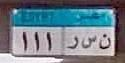1: (46, 31, 53, 51), (21, 32, 28, 51), (34, 31, 40, 52)
noon: (99, 33, 112, 50)
raa: (67, 34, 79, 49)
seen: (81, 35, 97, 49)
